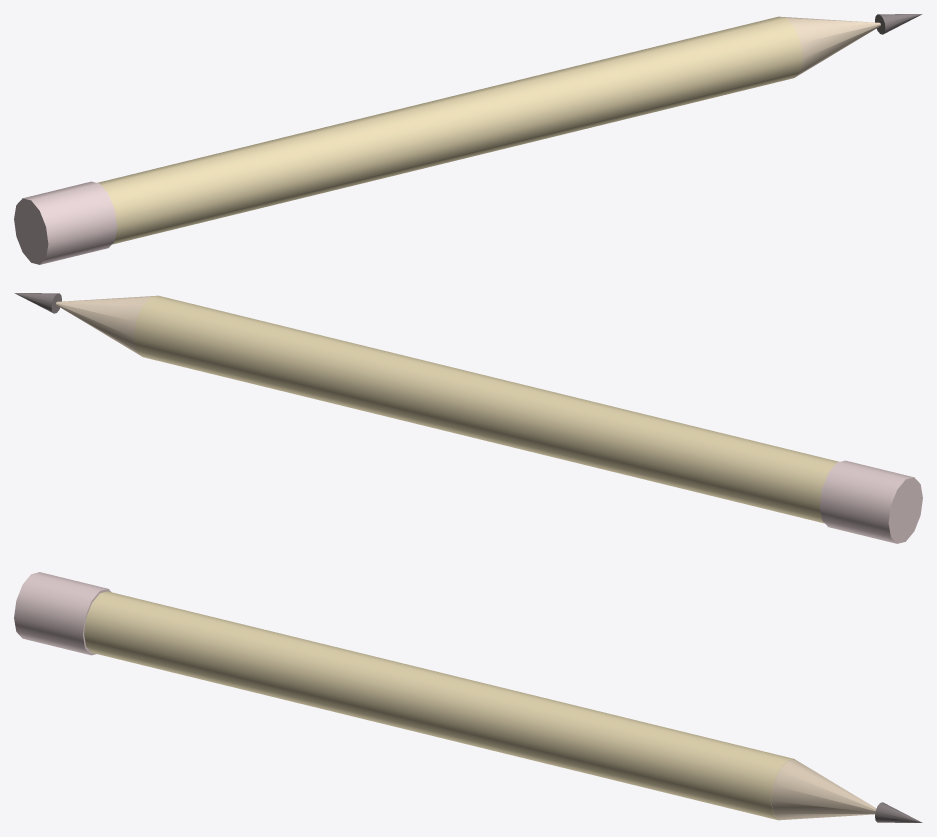
Rendered from pencil.glb.
The picture shows the model from 3 angles, top to bottom: view 1: azimuth 30°, elevation 25°; view 2: azimuth 150°, elevation 25°; view 3: azimuth 330°, elevation 25°; orthographic projection.
Parts seen in each view (by area): view 1: pencil.material0, pencil.material3, pencil.material1, pencil.material2; view 2: pencil.material0, pencil.material3, pencil.material1, pencil.material2; view 3: pencil.material0, pencil.material3, pencil.material1, pencil.material2.
Boxes of the visible parts, bbox=[...] form: pencil.material0: bbox=[97, 16, 802, 244]; pencil.material3: bbox=[14, 181, 116, 264]; pencil.material1: bbox=[780, 16, 880, 76]; pencil.material2: bbox=[875, 14, 922, 34]; pencil.material0: bbox=[134, 295, 839, 523]; pencil.material3: bbox=[820, 460, 922, 543]; pencil.material1: bbox=[56, 295, 156, 355]; pencil.material2: bbox=[14, 293, 61, 313]; pencil.material0: bbox=[84, 591, 794, 820]; pencil.material3: bbox=[14, 572, 111, 655]; pencil.material1: bbox=[771, 759, 876, 820]; pencil.material2: bbox=[875, 802, 922, 822].
Size of the model in its own units: 0.5835 by 0.039 by 0.039.
